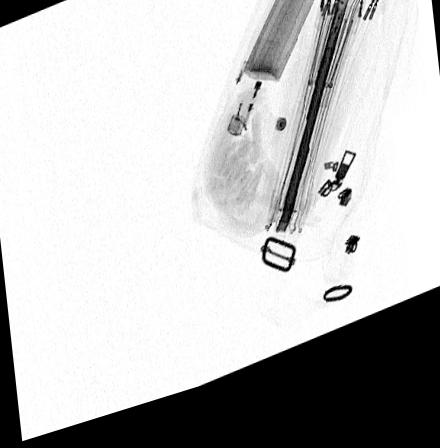Lighter: (225, 53, 280, 150)
